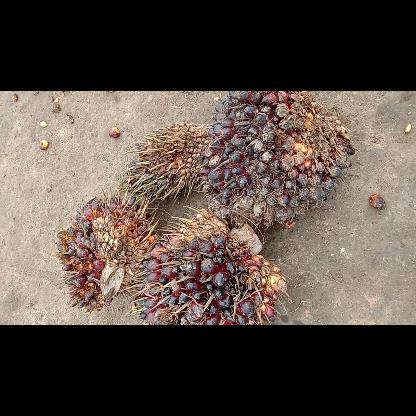Kurang masak: (208, 90, 356, 228), (138, 212, 282, 324)
TBS abnormal: (119, 121, 210, 205)
TBS masak: (57, 197, 151, 314)
